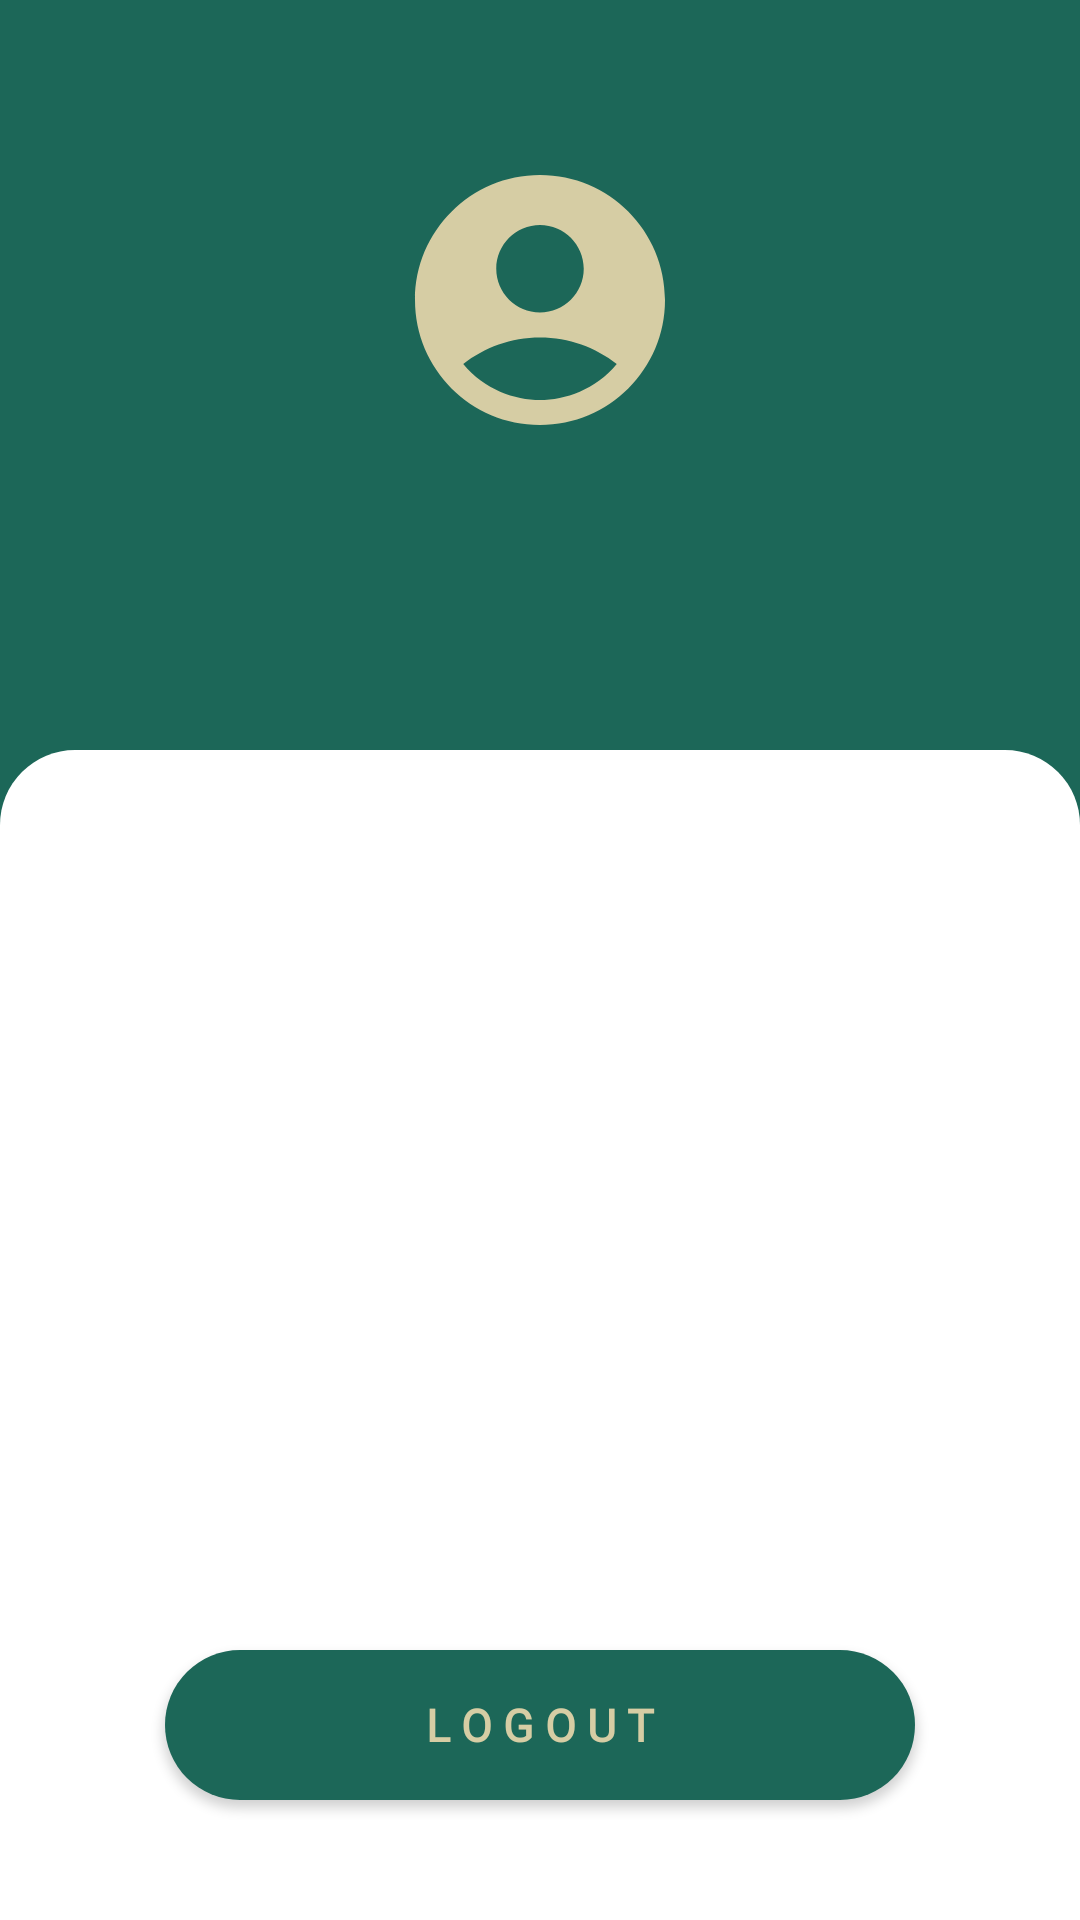

Named icons in this screenshot (1080w x 1920h) and their bounding boxes, bbox(x1, y1, x2, y2):
profile: bbox(415, 175, 665, 425)
